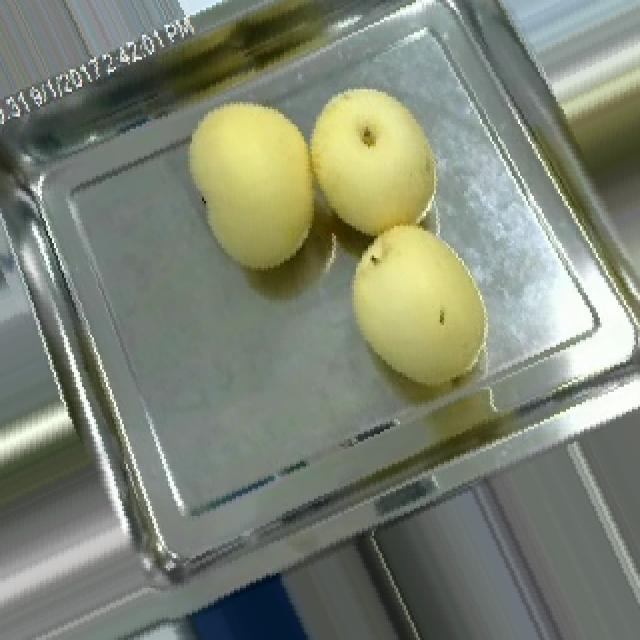Fruit: (324, 208, 512, 410), (162, 80, 336, 290), (298, 74, 454, 253)
